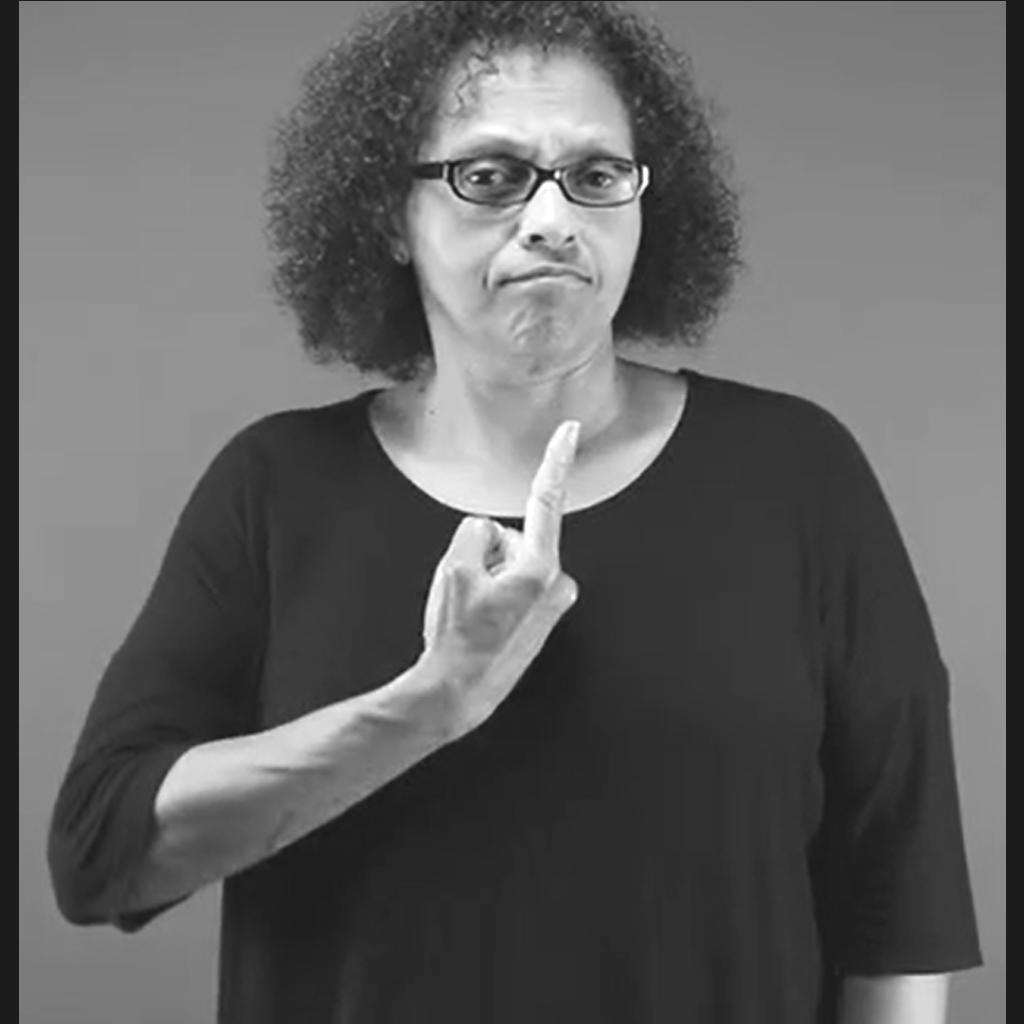I: (425, 419, 579, 725)
